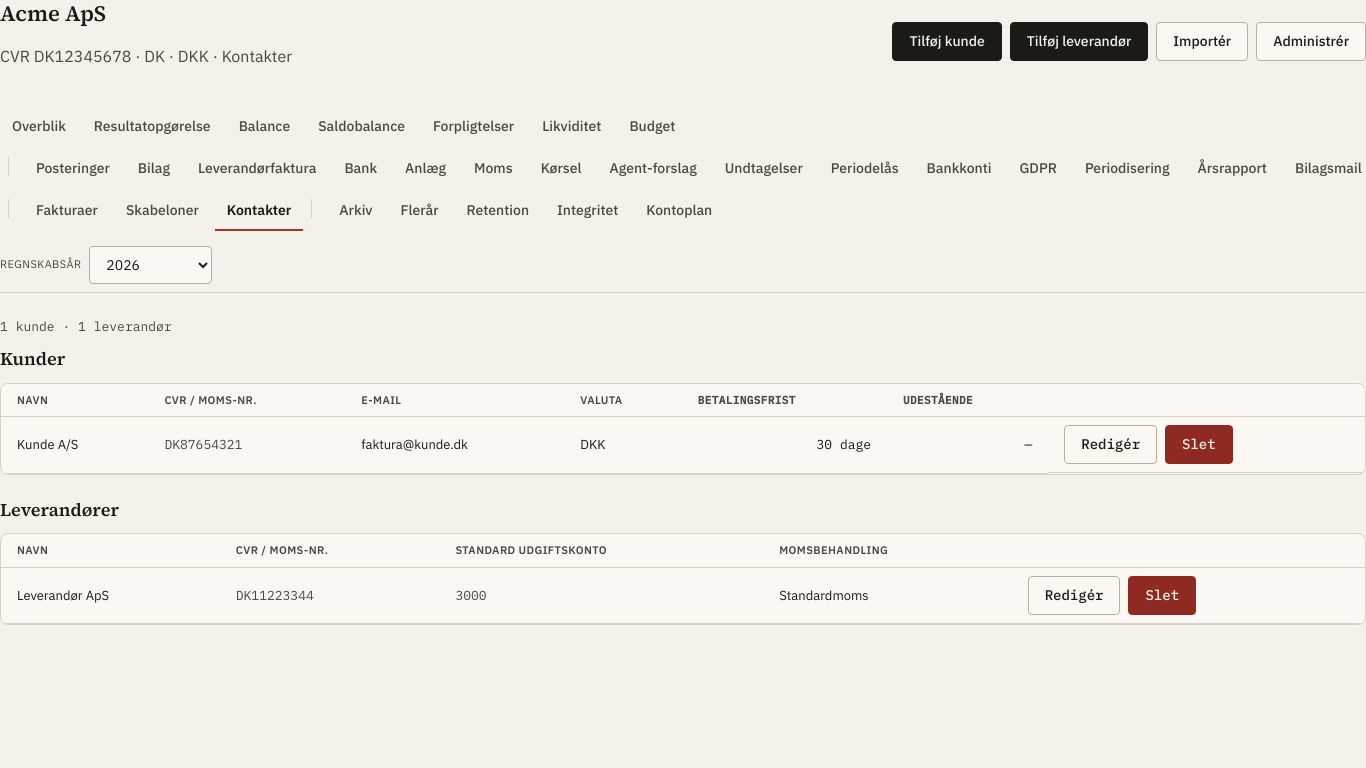
it: ContactsView — Kontakter › each customer row has a Slet action that opens a confirm dialog
The image size is (1366, 768).
What coordinates should you click on to do the following:
click the button with aria-label "Slet Kunde A/S"
I would click on:
 (1199, 444)
Its box is [1165,425,1233,464].
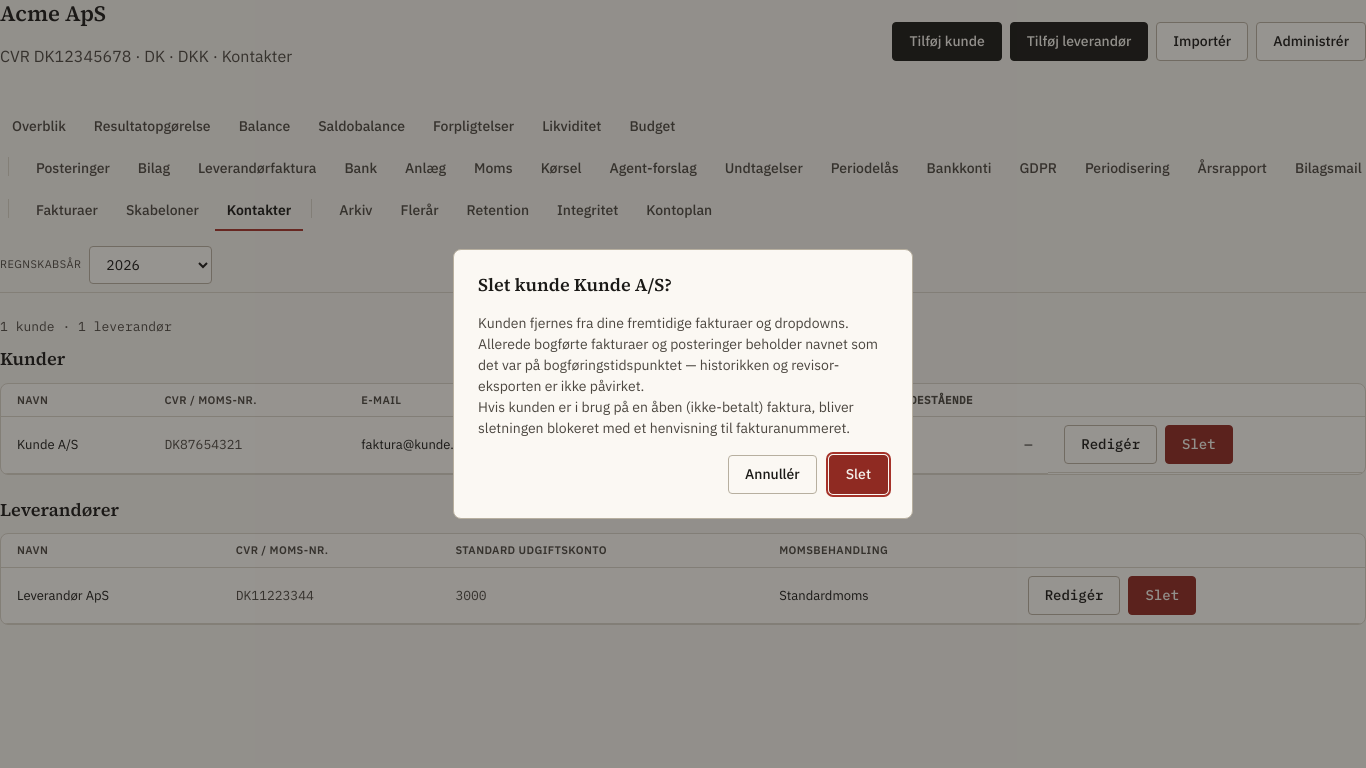
Now the dialog "Slet kunde Kunde A/S" is shown, box [453,249,913,519]
Now the text "bogførte fakturaer og posteringer beholder navnet" is shown, box [478,335,878,395]
